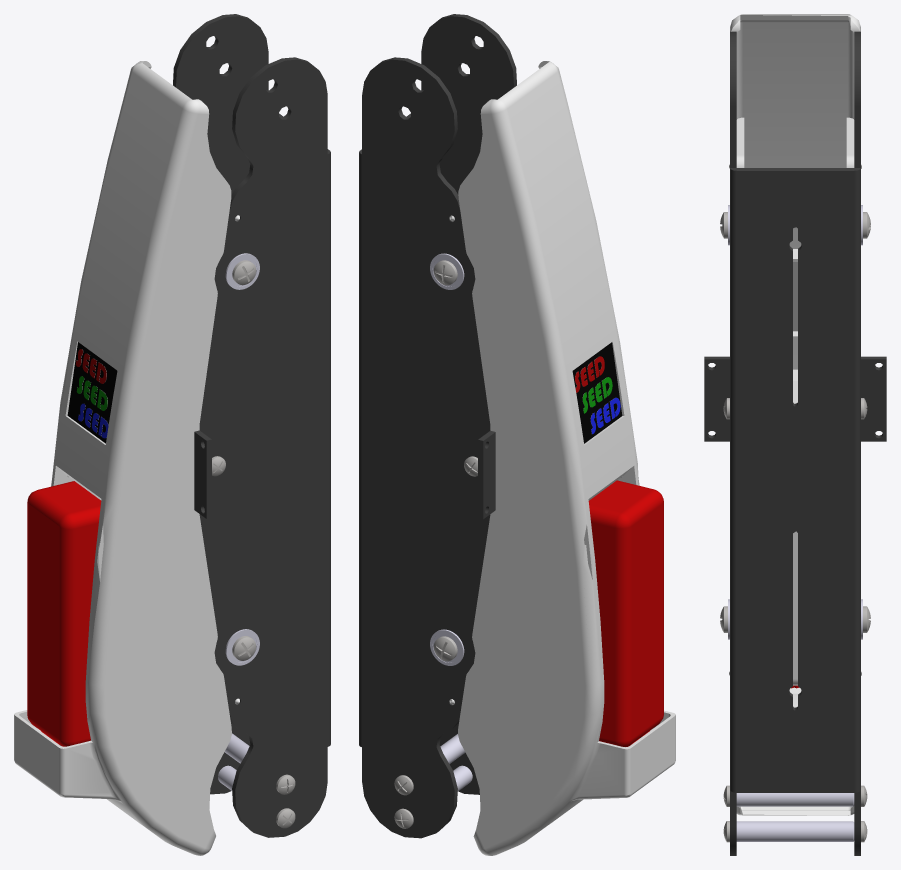
File: upperarm.dae
3 renders of one model, left to right at view 1: azimuth 30°, elevation 25°; view 2: azimuth 150°, elevation 25°; view 3: azimuth 270°, elevation 25°, orthographic. The views are drawn at different scales.
Parts seen in each view (by area): view 1: FBXASC227FBXASC130FBXASC189FBXASC227FBXASC131FBXASC170FBXASC (×4); view 2: FBXASC227FBXASC130FBXASC189FBXASC227FBXASC131FBXASC170FBXASC (×4); view 3: FBXASC227FBXASC130FBXASC189FBXASC227FBXASC131FBXASC170FBXASC (×4).
Part boxes in pixels (x1,y1,x2,y2): FBXASC227FBXASC130FBXASC189FBXASC227FBXASC131FBXASC170FBXASC (×4): (14, 14, 330, 855); FBXASC227FBXASC130FBXASC189FBXASC227FBXASC131FBXASC170FBXASC (×4): (359, 14, 675, 855); FBXASC227FBXASC130FBXASC189FBXASC227FBXASC131FBXASC170FBXASC (×4): (704, 14, 886, 855).
Size of the model in its own units: 0.124 by 0.0705 by 0.3484.
